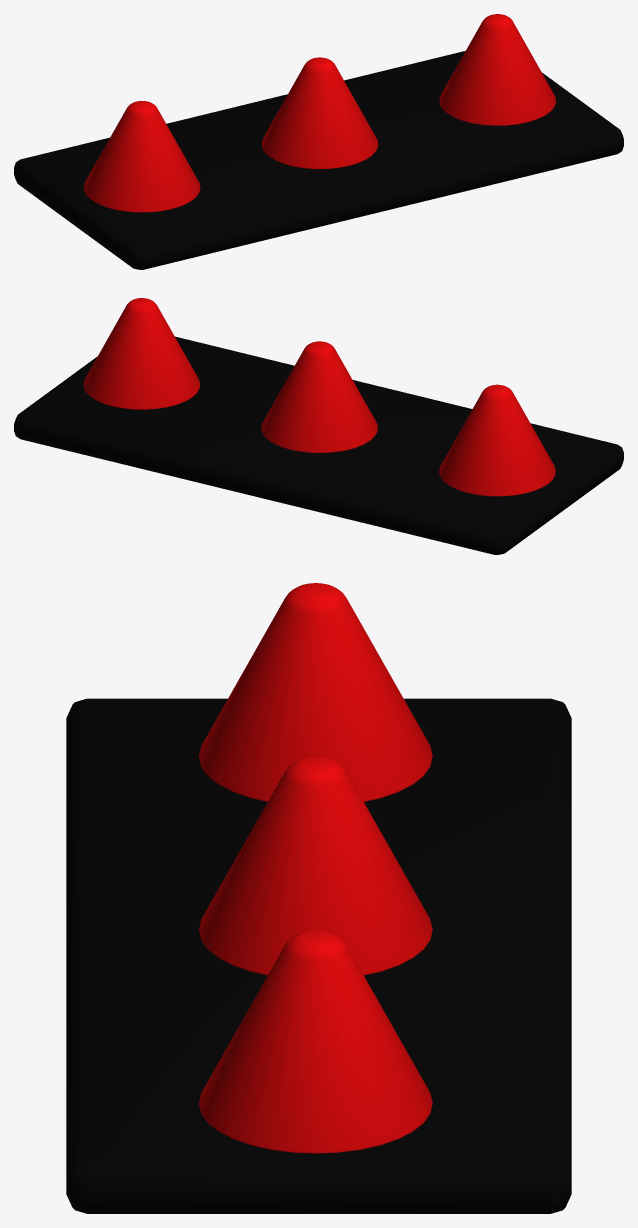
The model's file is M_3Obstackle.fbx.
The picture shows the model from 3 angles, top to bottom: view 1: azimuth 30°, elevation 25°; view 2: azimuth 150°, elevation 25°; view 3: azimuth 270°, elevation 25°; orthographic projection. The views are drawn at different scales.
Parts seen in each view (by area): view 1: 3obst; view 2: 3obst; view 3: 3obst.
Part boxes in pixels (x1,y1,x2,y2): 3obst: [14, 14, 623, 269]; 3obst: [14, 298, 623, 554]; 3obst: [66, 583, 571, 1213].
Bounding box in the file's own units: 1.8 × 0.3825 × 0.8.
